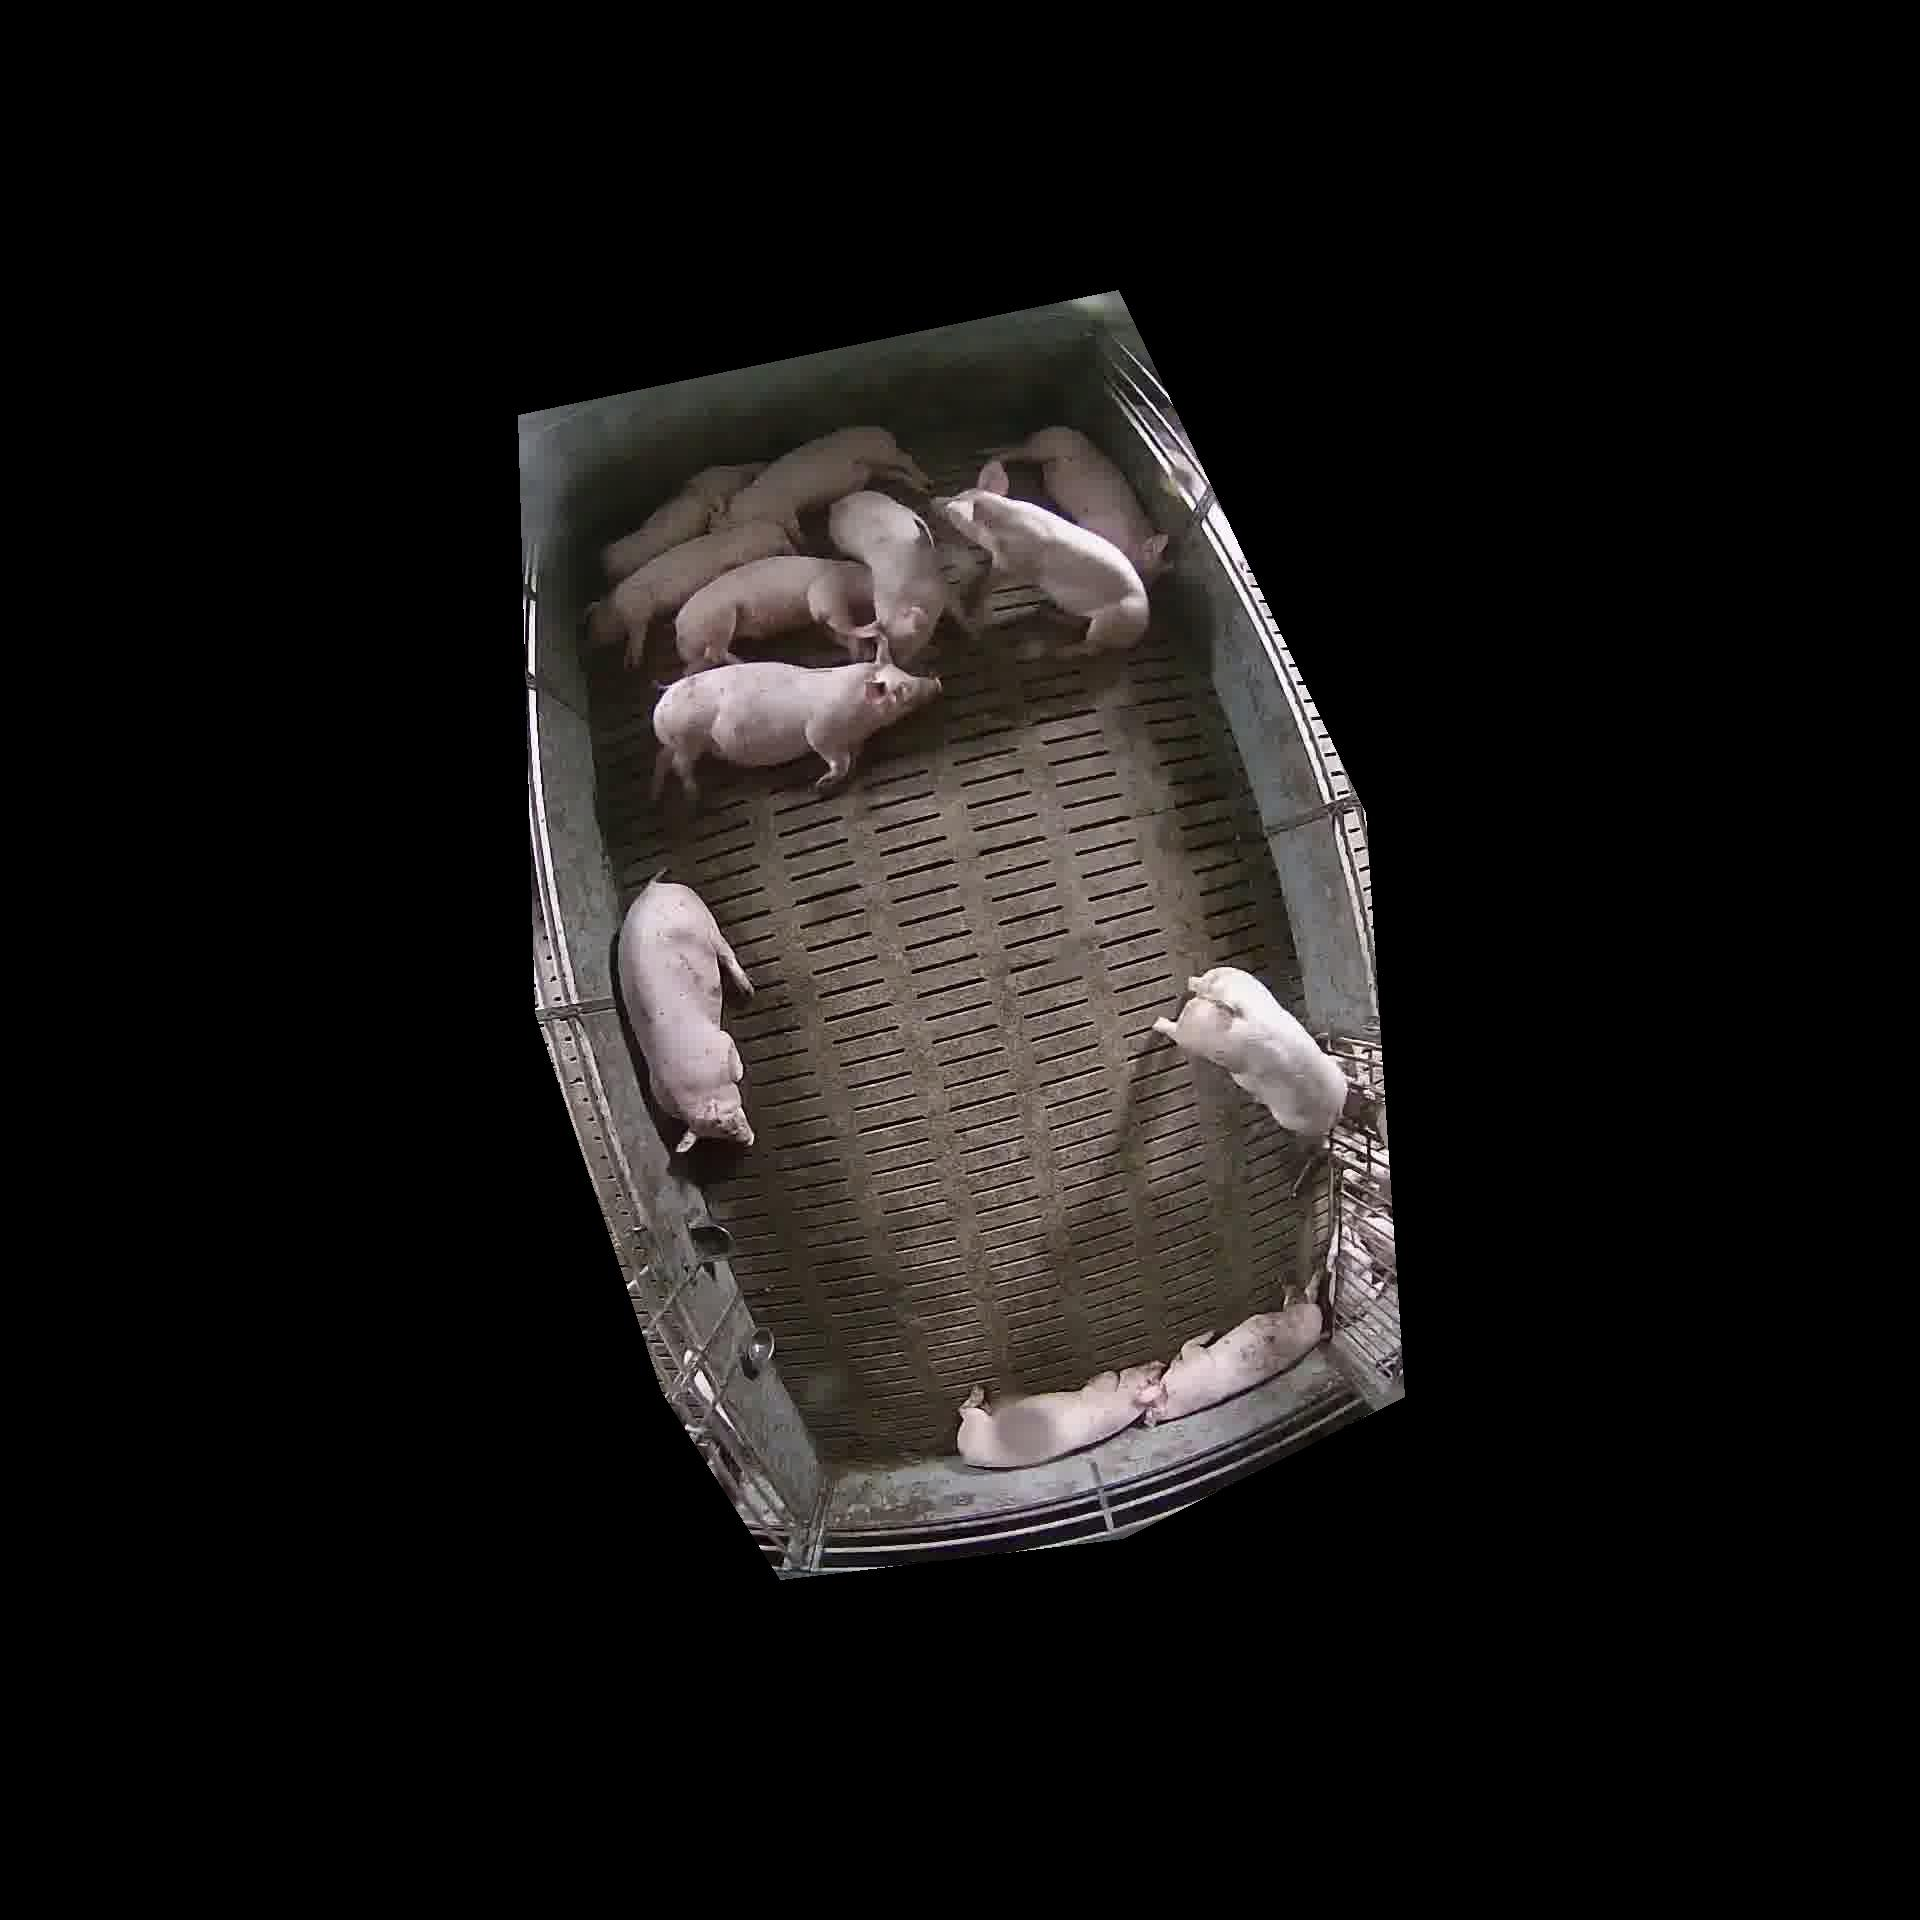pig: (935, 459, 1148, 652), (652, 661, 941, 798), (619, 879, 753, 1150), (1153, 967, 1347, 1138), (587, 520, 789, 666), (992, 425, 1167, 580), (721, 425, 927, 540), (675, 556, 876, 672), (1145, 1299, 1322, 1422), (956, 1363, 1162, 1466), (828, 491, 948, 666), (600, 464, 761, 585)
